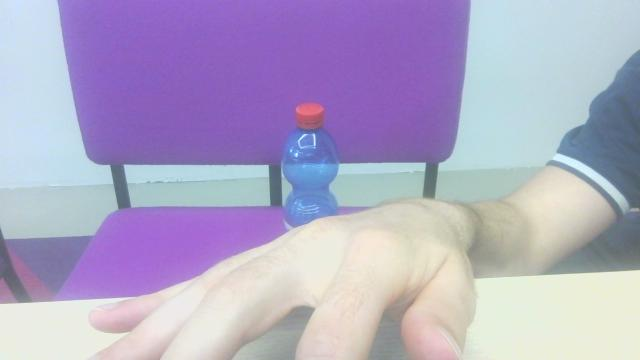plastic_bottle: (274, 97, 345, 214)
